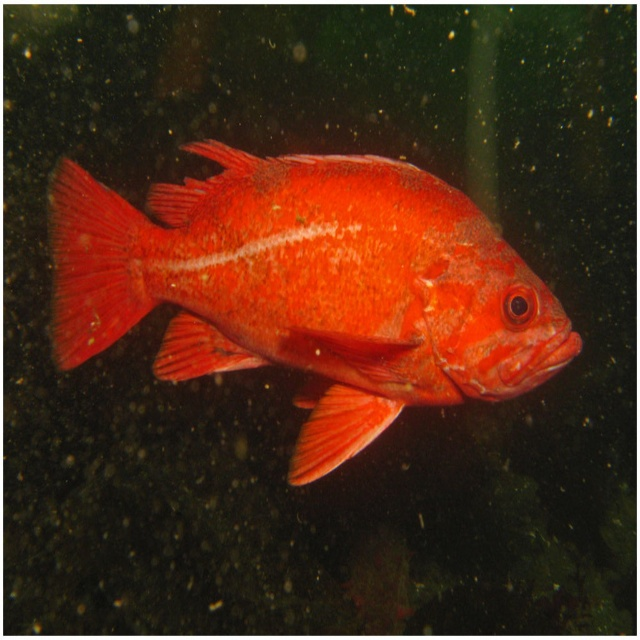Goldfish: (46, 137, 582, 487)
